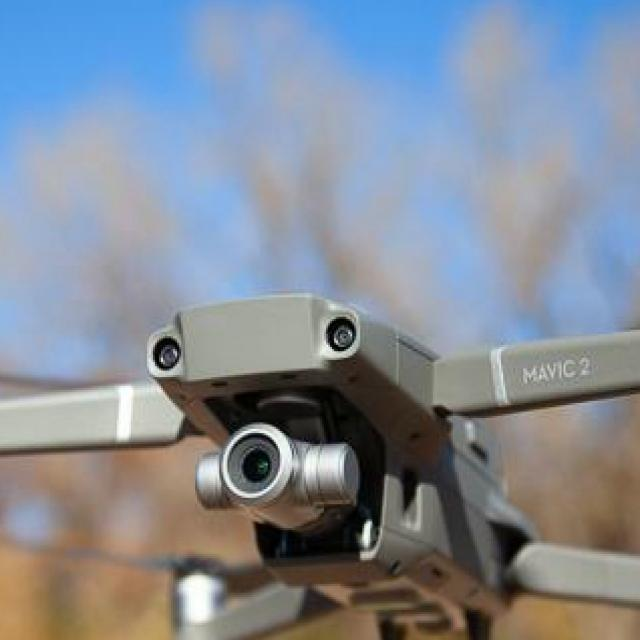drone: (0, 200, 640, 640)
